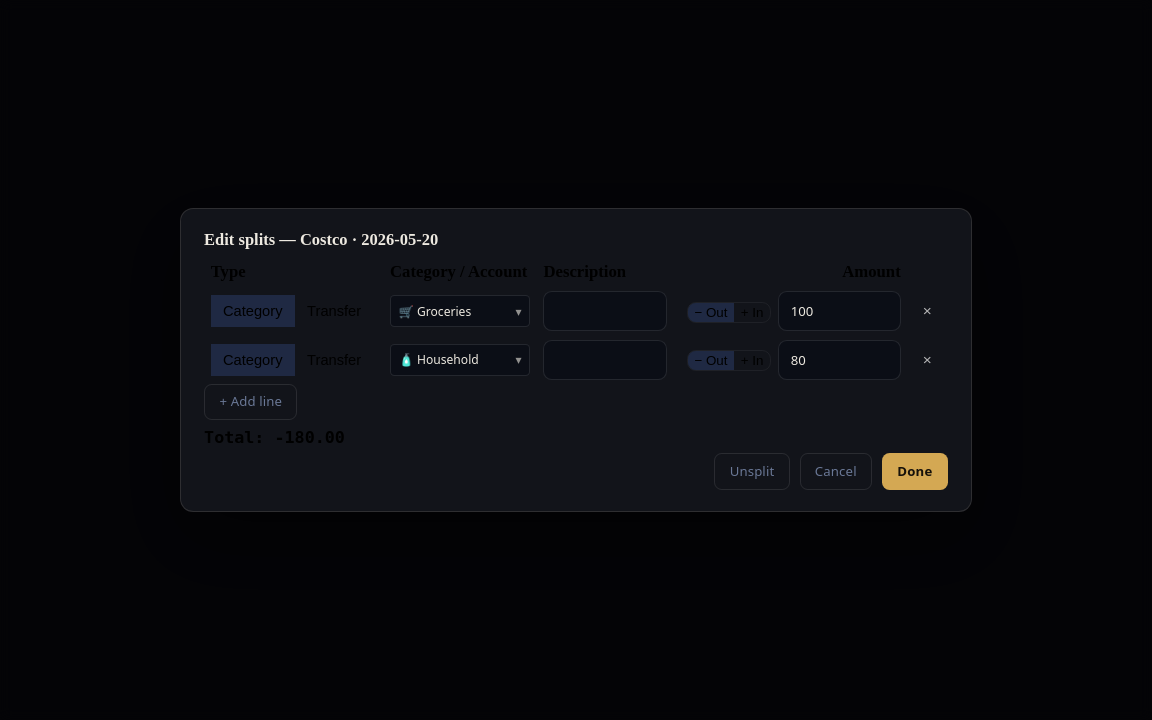
Test: SplitsEditor per-line direction › a freshly added line defaults to Out, so a typed magnitude becomes negative (Total reflects it)
This screenshot has width=1152, height=720.
Click the button "+ Add line" at (251, 402), box [204,384,298,420]
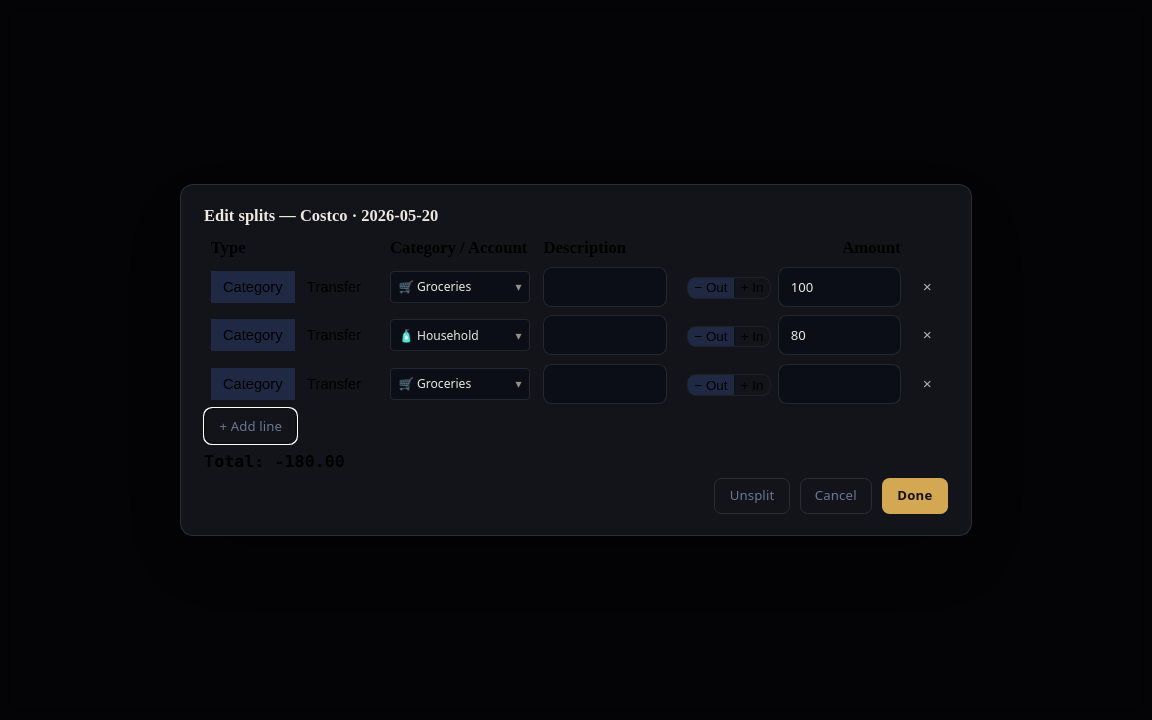
Type "50" into the 3rd number field named "line amount" at (839, 384), box [778,364,901,404]
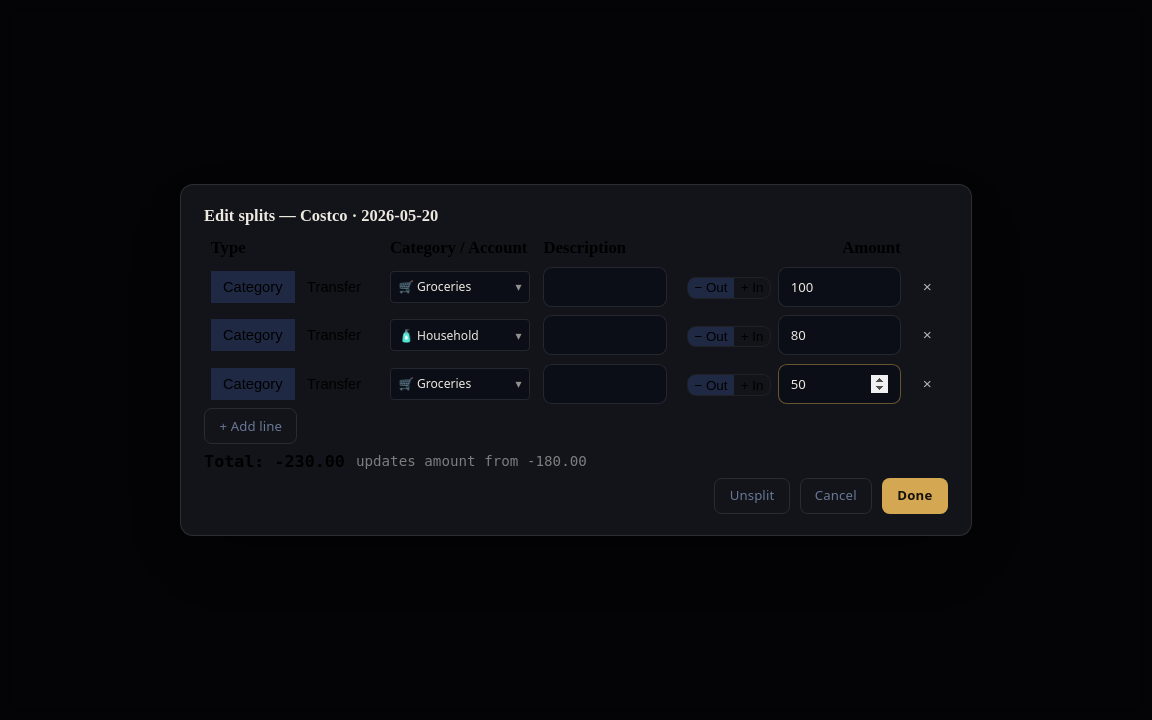
Check: the text "Total: -230.00" is shown, box [204,451,345,471]
